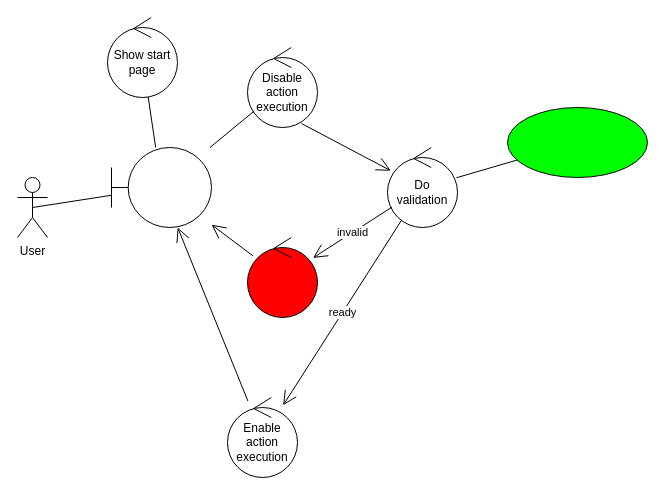
This 665x495 diagram has some shape labels left out. The box of each missing label's shape, as (x1, y1, x2, y2) in pixels:
Show errors in monitor area: (246, 236, 318, 318)
Start page: (110, 146, 212, 228)
Validation: (506, 106, 648, 178)
